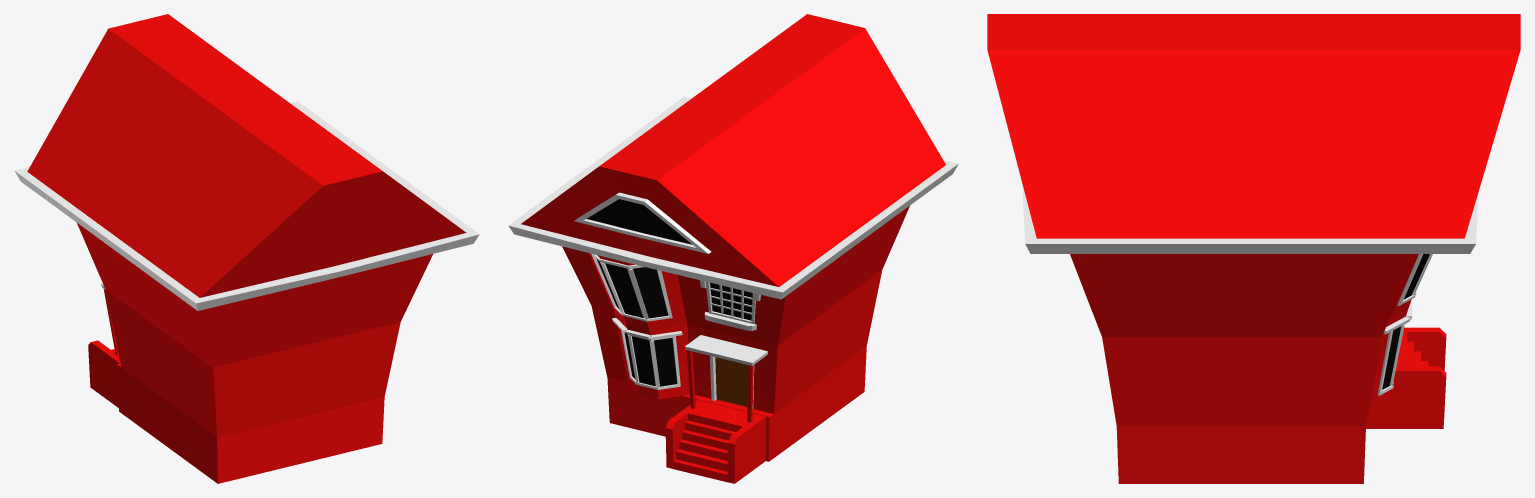
The model's file is houseresidentielredstylized.fbx.
The picture shows the model from 3 angles, left to right: view 1: azimuth 30°, elevation 25°; view 2: azimuth 150°, elevation 25°; view 3: azimuth 270°, elevation 25°; orthographic projection. The views are drawn at different scales.
Visible parts, largest first — view 1: houseresidentielredstylized; view 2: houseresidentielredstylized; view 3: houseresidentielredstylized.
Part boxes in pixels (<box>): houseresidentielredstylized: <box>14,14,479,483</box>; houseresidentielredstylized: <box>508,14,958,483</box>; houseresidentielredstylized: <box>987,14,1520,483</box>.
Bounding box in the file's own units: 947 × 1034 × 1243.
